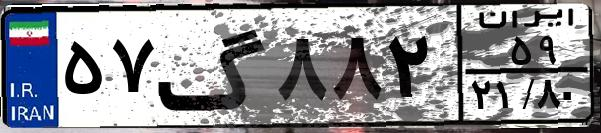0: (560, 70, 590, 125)
1: (495, 70, 520, 125)
2: (385, 28, 445, 110), (470, 70, 495, 125)
5: (57, 26, 110, 100), (508, 27, 537, 80)
7: (110, 28, 156, 98)
8: (270, 28, 330, 110), (330, 28, 385, 110), (535, 70, 560, 125)
9: (537, 27, 568, 80)
گ: (156, 12, 270, 120)
